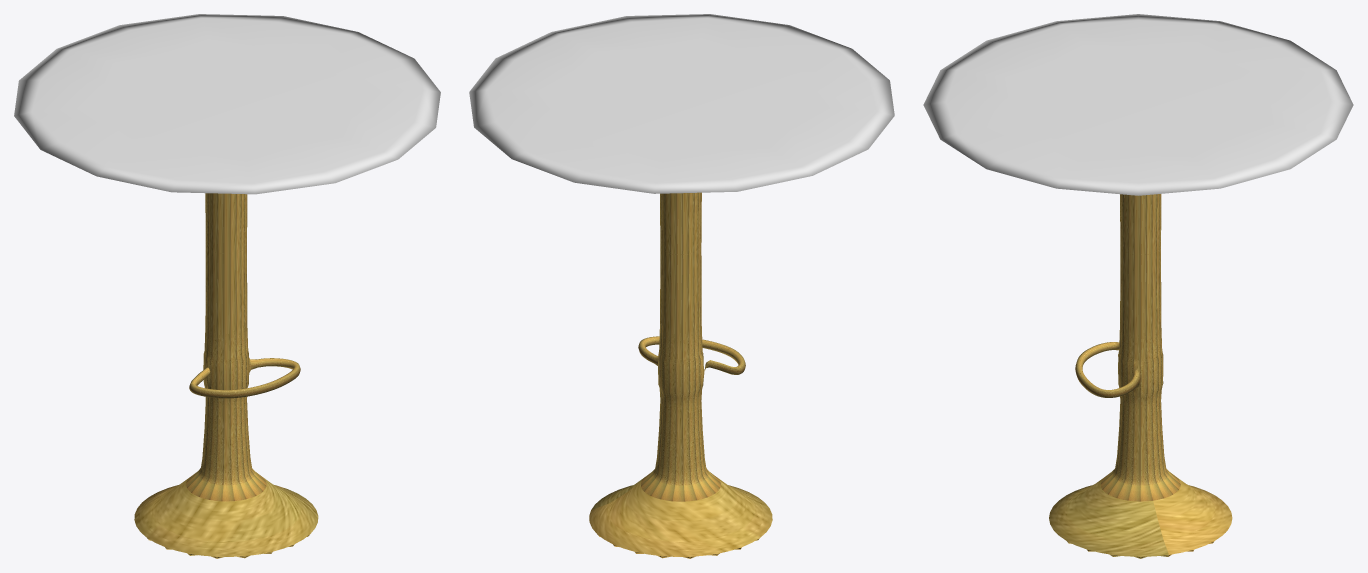
The model's file is Table.fbx.
3 renders of one model, left to right at view 1: azimuth 30°, elevation 25°; view 2: azimuth 150°, elevation 25°; view 3: azimuth 270°, elevation 25°, orthographic.
Parts seen in each view (by area): view 1: polySurface3; view 2: polySurface3; view 3: polySurface3.
Boxes of the visible parts, x1,y1,x2,y2 form: polySurface3: [14, 14, 440, 558]; polySurface3: [469, 14, 894, 558]; polySurface3: [923, 14, 1353, 558].
Size of the model in its own units: 3.86 by 4.19 by 3.86.
Materials: 2 (1 with a texture image).
